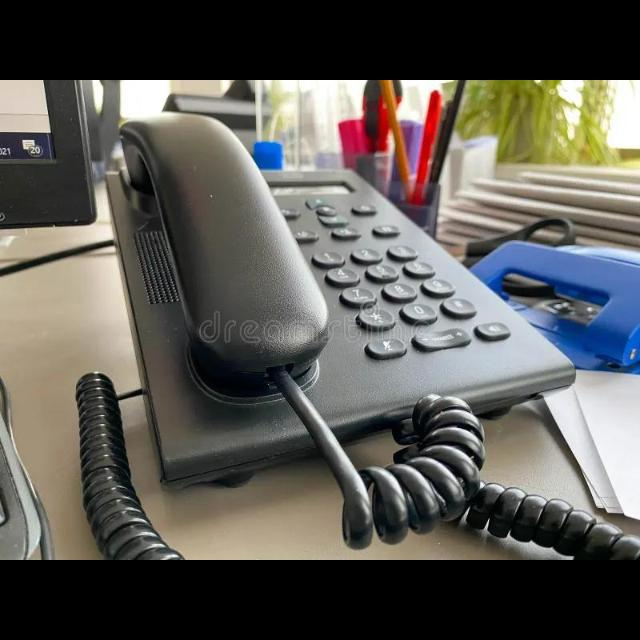Telephone-Set: (102, 112, 578, 496)
